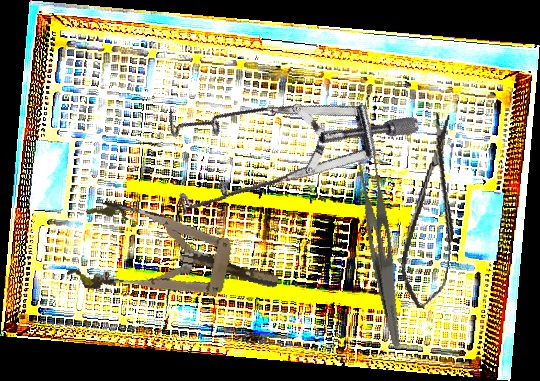Dressing Forceps: (346, 145, 423, 349)
Micro Scissor: (395, 111, 472, 312)
Speculum: (134, 27, 425, 289), (65, 196, 287, 327)
